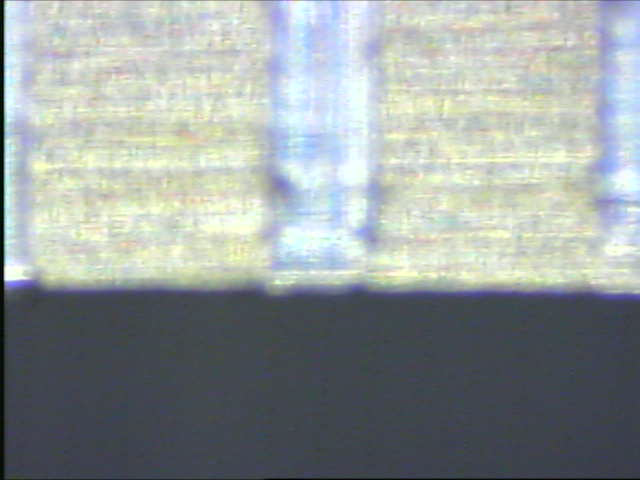line: (268, 1, 383, 301)
